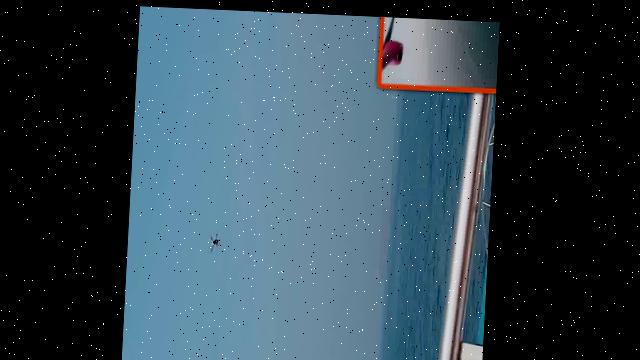drone: (200, 206, 239, 270)
